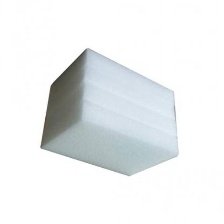foam_box: (34, 45, 184, 181)
